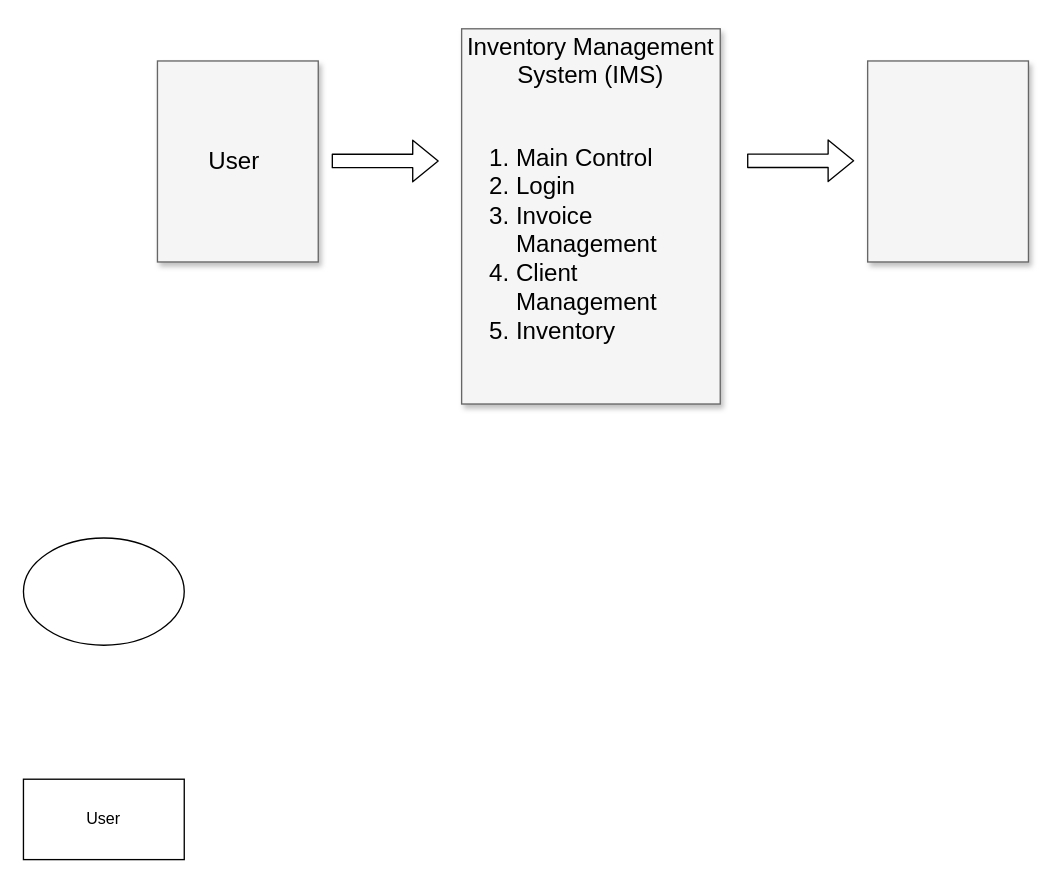
Image size: 1060x883. Some labels were removed from this diagram. Each missing label, with the centre of its shape:
"GUI" goes at point (948, 162).
"Main Control" goes at point (103, 591).
